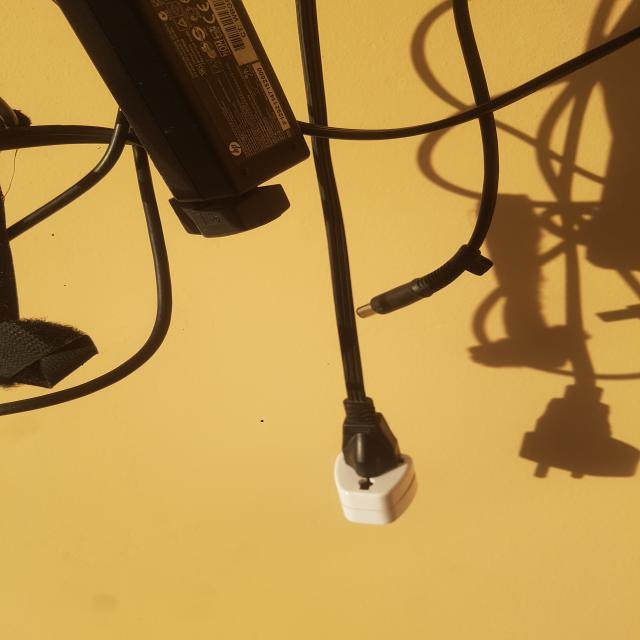electronic: (156, 0, 549, 553)
